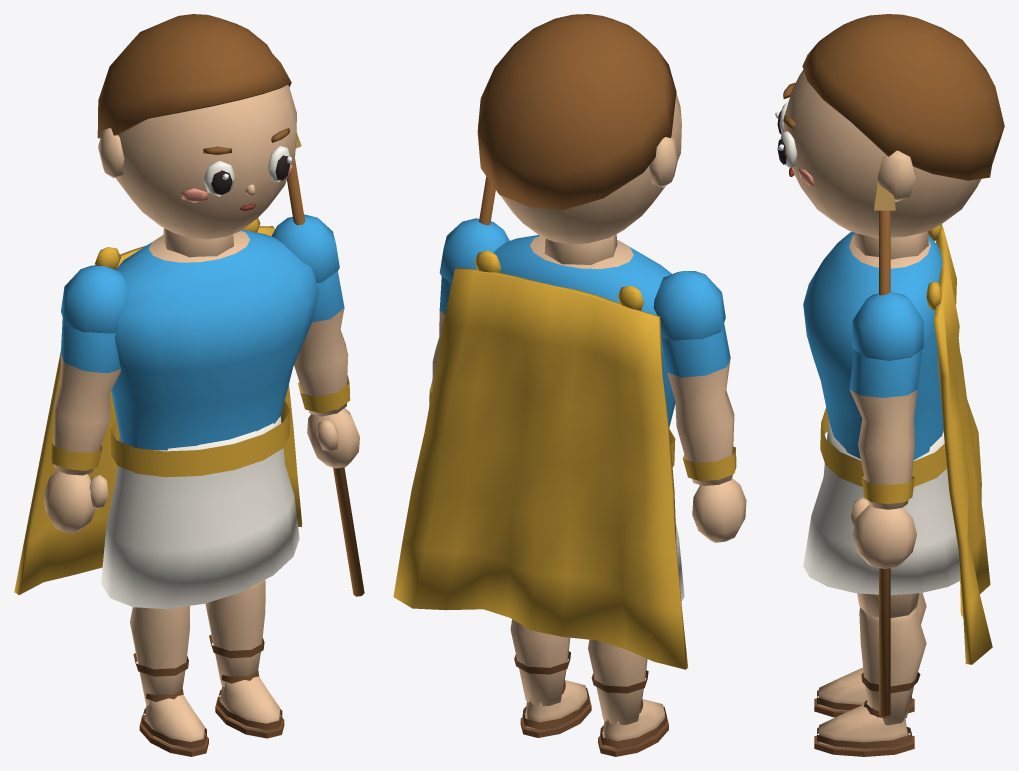
File: jason.glb
3 renders of one model, left to right at view 1: azimuth 30°, elevation 25°; view 2: azimuth 150°, elevation 25°; view 3: azimuth 270°, elevation 25°, orthographic. The views are drawn at different scales.
Parts seen in each view (by area): view 1: rumpf, huefte, kopf, haare, armL, armR, umhang, knieL, knieR, itemR, augeL, augeR; view 2: umhang, haare, armL, kopf, rumpf, knieL, knieR, armR; view 3: haare, rumpf, armR, kopf, huefte, umhang, knieR, itemR, knieL, beinR, augeR.
Part boxes in pixels (x1,y1,x2,y2): rumpf: (110,229,319,477); huefte: (101,416,299,608); kopf: (98,85,296,257); haare: (97,14,291,138); armL: (44,265,129,533); armR: (271,214,359,468); umhang: (14,218,302,594); knieL: (130,606,208,756); knieR: (205,580,284,738); itemR: (287,132,364,596); augeL: (203,161,235,196); augeR: (268,146,291,181); umhang: (393,250,688,669); haare: (477,14,676,210); armL: (653,271,746,542); kopf: (478,93,681,265); rumpf: (494,235,675,466); knieL: (588,639,668,756); knieR: (510,619,591,737); armR: (429,218,509,406); haare: (802,14,1004,180); rumpf: (803,232,946,486); armR: (849,292,923,568); kopf: (784,69,981,259); huefte: (803,421,959,595); umhang: (926,224,992,664); knieR: (814,607,926,756); itemR: (874,160,895,715); knieL: (814,593,926,717); beinR: (857,593,919,618); augeR: (777,131,797,167).
Size of the model in its own units: 1.08 by 2.29 by 0.6753.
